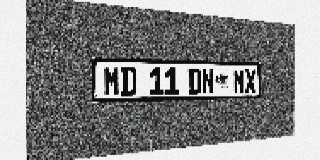1: (149, 67, 164, 95), (164, 68, 178, 95)
D: (121, 67, 137, 96), (188, 68, 201, 94)
M: (104, 66, 120, 96), (233, 69, 245, 93)
N: (202, 68, 214, 94)
X: (245, 69, 256, 93)
